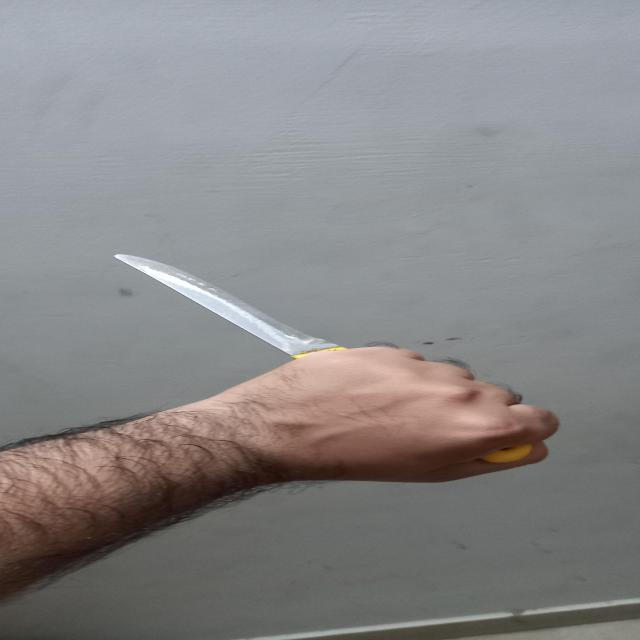Knife: (115, 254, 532, 462)
Person: (0, 346, 560, 608)
